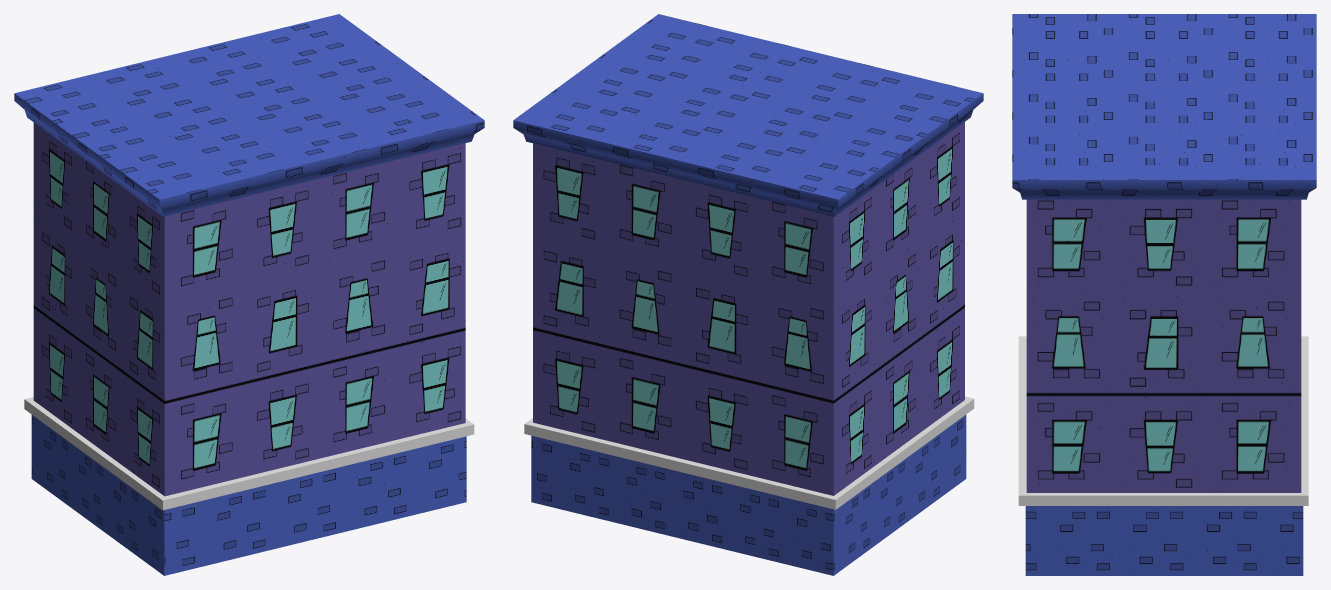
The picture shows the model from 3 angles, left to right: view 1: azimuth 30°, elevation 25°; view 2: azimuth 150°, elevation 25°; view 3: azimuth 270°, elevation 25°; orthographic projection. The views are drawn at different scales.
Parts seen in each view (by area): view 1: Box003, Box004, Box001, Box002; view 2: Box003, Box004, Box001, Box002; view 3: Box003, Box004, Box001, Box002.
Boxes of the visible parts, bbox=[...] form: Box003: bbox=[33, 122, 465, 496]; Box004: bbox=[14, 14, 484, 216]; Box001: bbox=[31, 415, 466, 575]; Box002: bbox=[24, 397, 474, 510]; Box003: bbox=[533, 122, 964, 495]; Box004: bbox=[513, 14, 983, 216]; Box001: bbox=[531, 415, 966, 575]; Box002: bbox=[524, 396, 974, 509]; Box003: bbox=[1026, 199, 1301, 492]; Box004: bbox=[1012, 14, 1316, 199]; Box001: bbox=[1025, 506, 1303, 575]; Box002: bbox=[1018, 336, 1308, 505].
Bounding box in the file's own units: 11.73 × 13.23 × 9.08.
